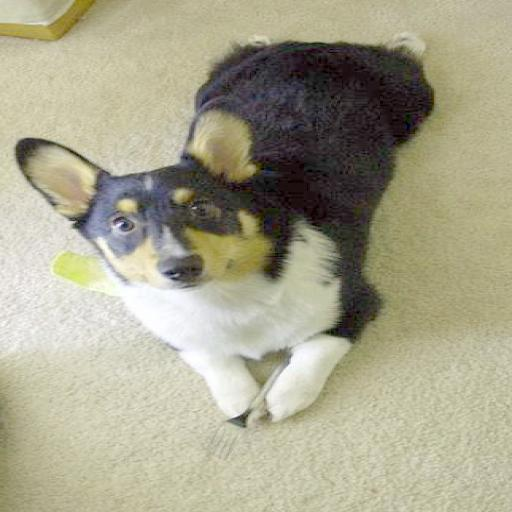dog_face: (11, 122, 272, 299)
